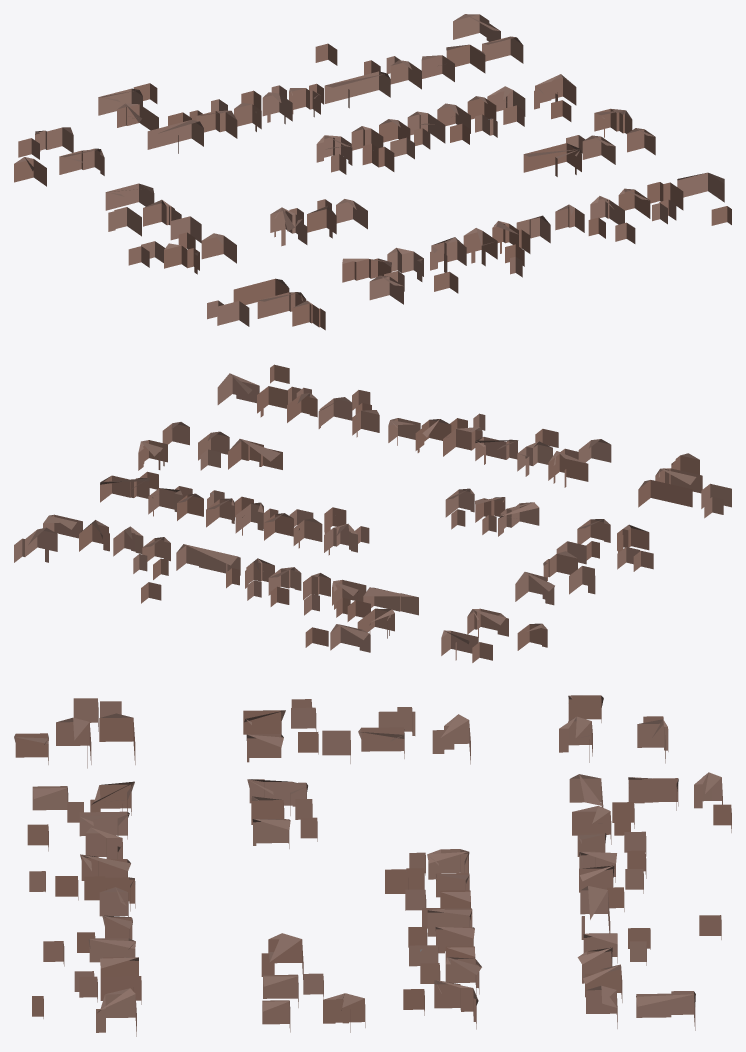
File: c_1646_17825_buildings_residential.glb
3 renders of one model, top to bottom at view 1: azimuth 30°, elevation 25°; view 2: azimuth 150°, elevation 25°; view 3: azimuth 270°, elevation 25°, orthographic. The views are drawn at different scales.
Visible parts, largest first — view 1: geometry_0; view 2: geometry_0; view 3: geometry_0.
Boxes of the visible parts, x1,y1,x2,y2 form: geometry_0: (14, 14, 731, 330); geometry_0: (14, 364, 731, 662); geometry_0: (14, 695, 731, 1036).
Size of the model in its own units: 265 by 10.94 by 252.
